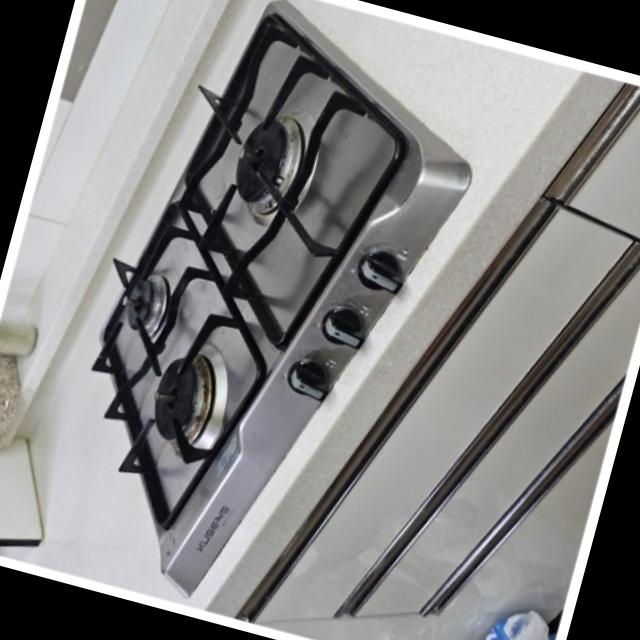knob_OFF: (171, 73, 469, 304), (130, 340, 300, 546), (48, 217, 228, 379)
